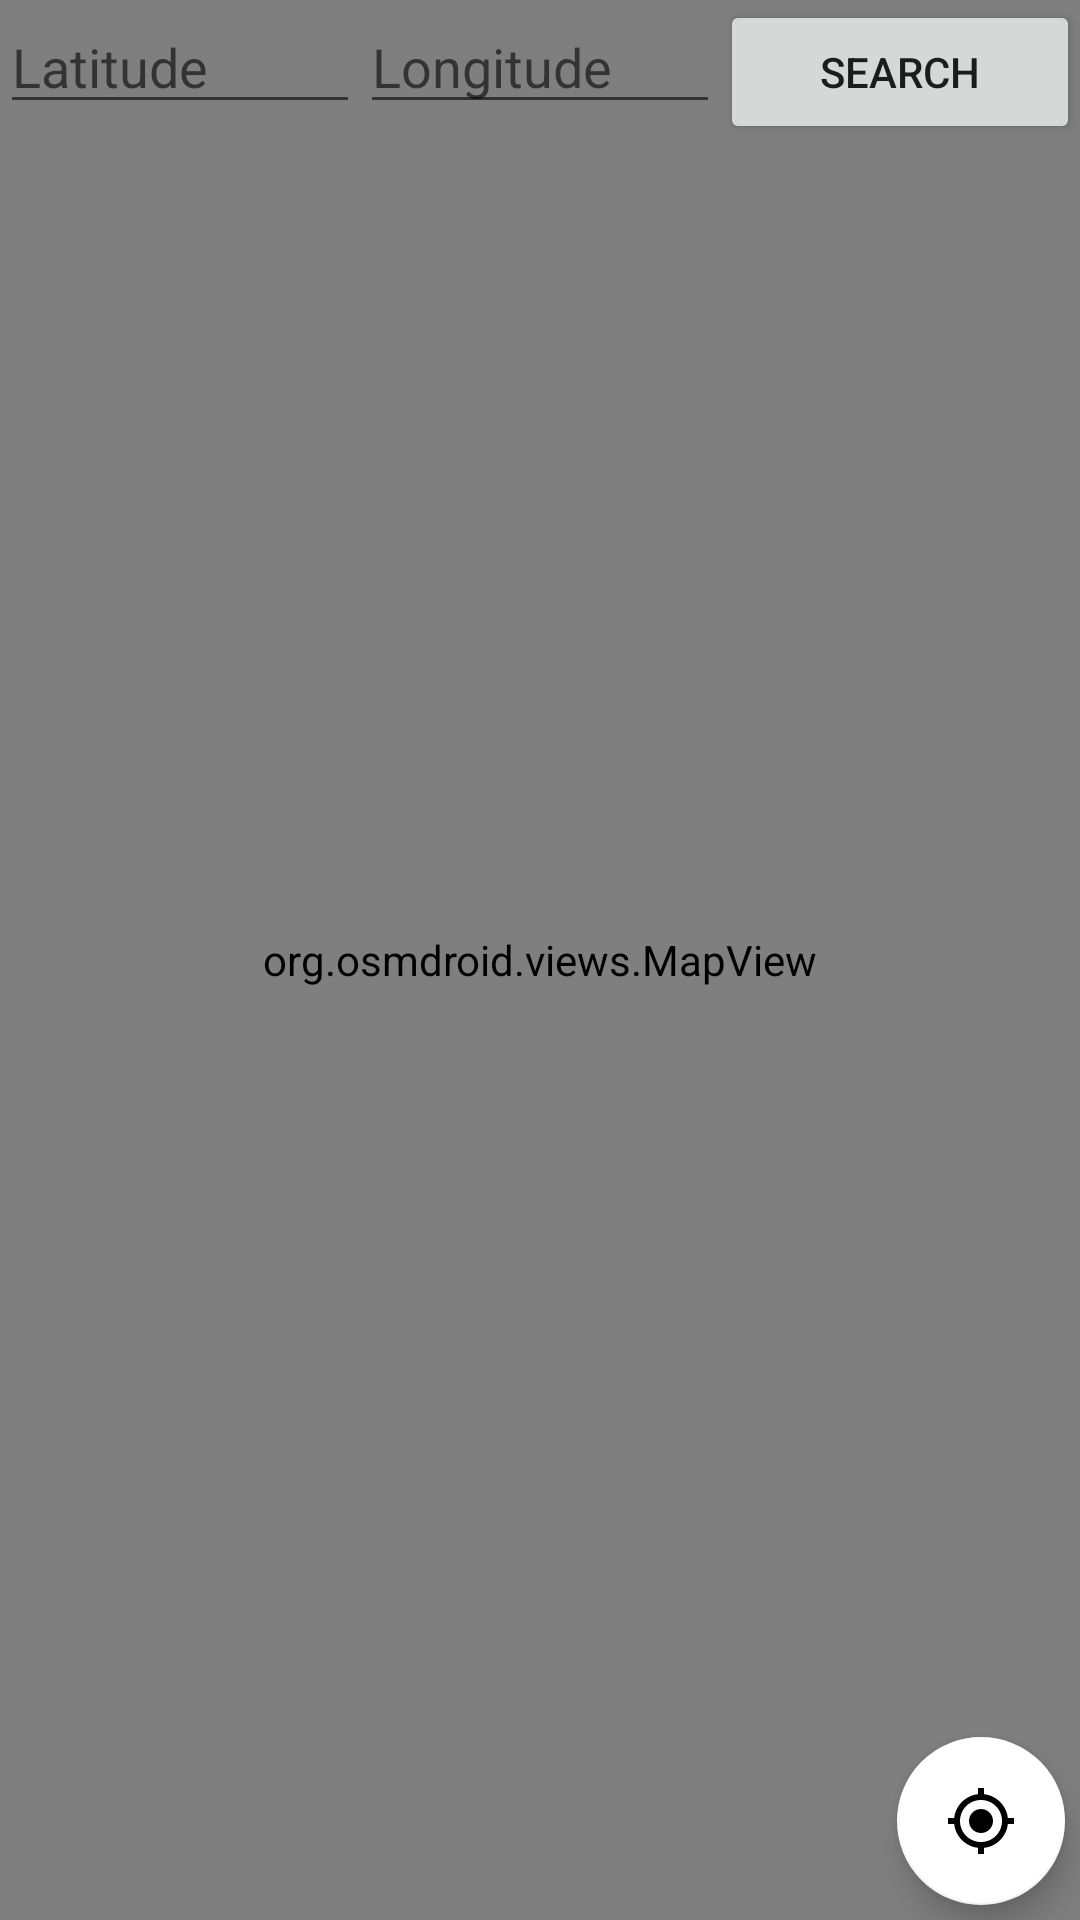

Named icons in this screenshot (1080px x 1920px) and their centers, (x=x, y=y):
gps fixed: (x=981, y=1821)
